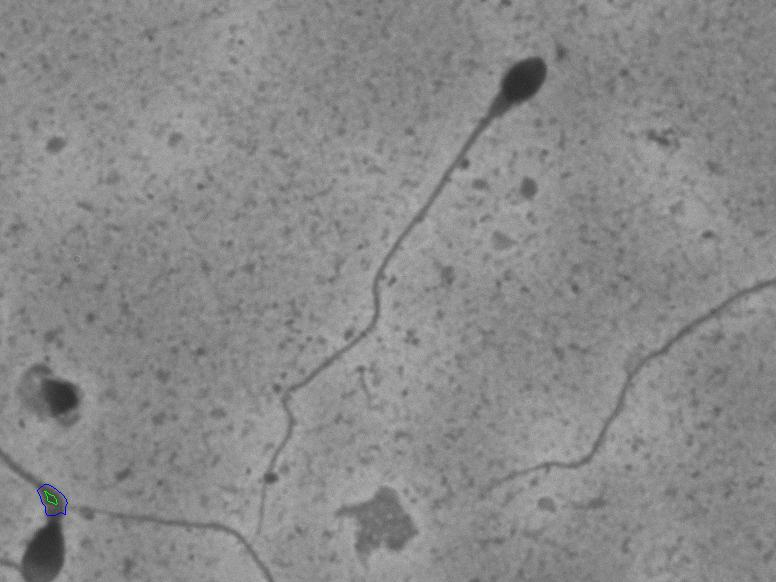Normal: (243, 39, 560, 553)
